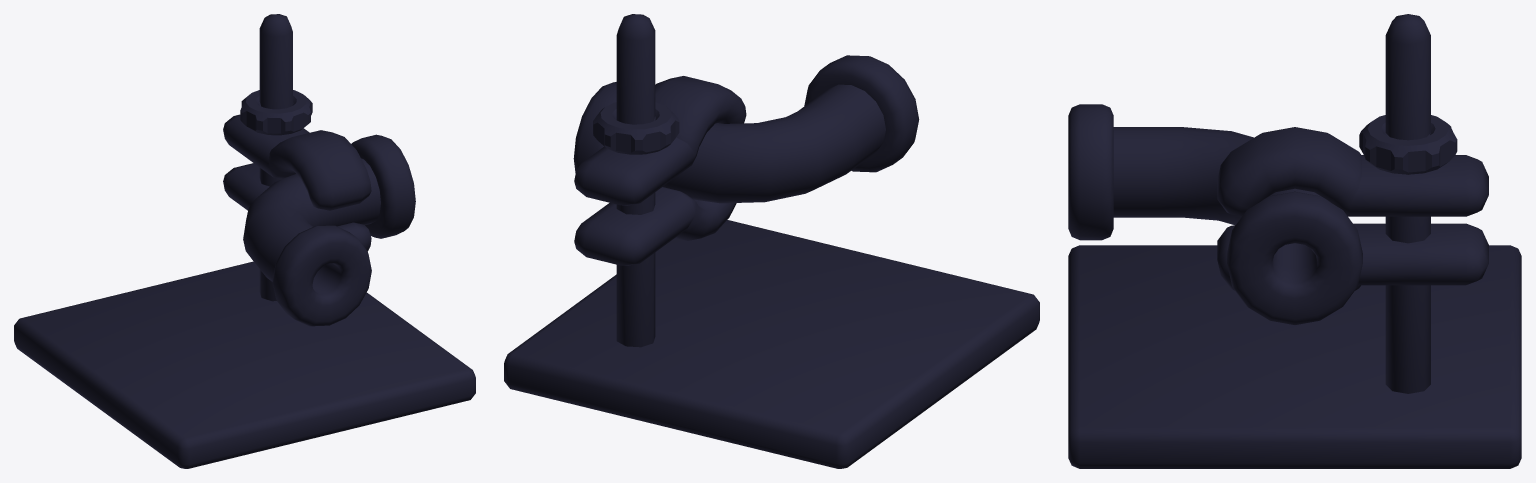
File: Constructing_Pipe_Curve.fbx
3 views of the same model, side by side, from view 1: azimuth 30°, elevation 25°; view 2: azimuth 150°, elevation 25°; view 3: azimuth 270°, elevation 25° (orthographic). The views are drawn at different scales.
Parts seen in each view (by area): view 1: Stand_Base_Small001; view 2: Stand_Base_Small001; view 3: Stand_Base_Small001.
Part boxes in pixels (bbox=[...]): Stand_Base_Small001: bbox=[14, 14, 475, 468]; Stand_Base_Small001: bbox=[504, 14, 1039, 468]; Stand_Base_Small001: bbox=[1068, 14, 1521, 468].
Bounding box in the file's own units: 100 × 100 × 100.
